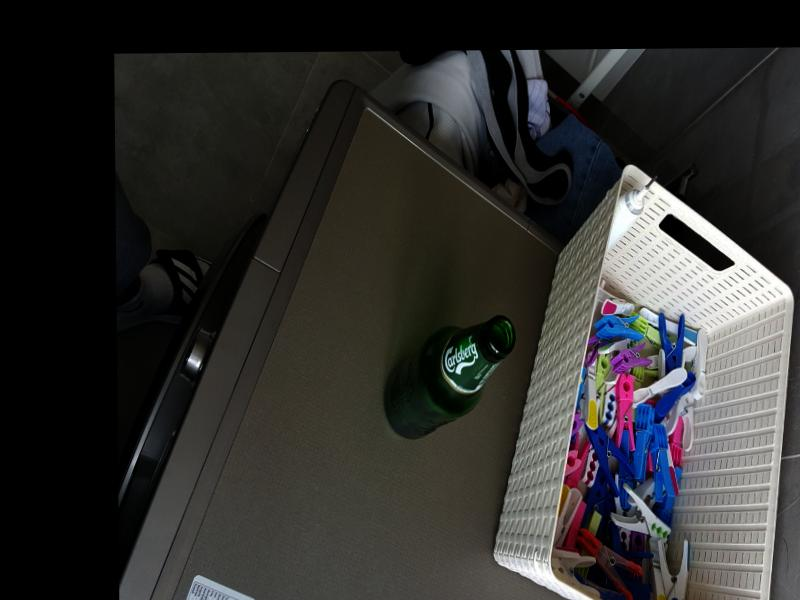Beer: (381, 314, 513, 436)
